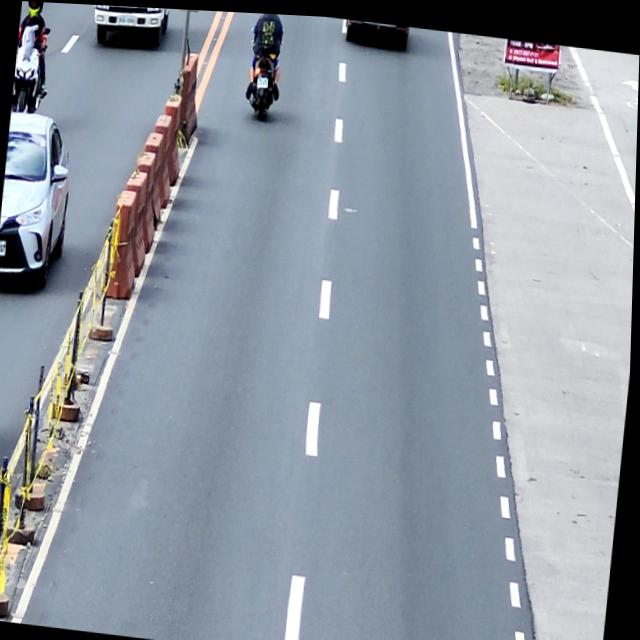Car: (0, 108, 77, 289)
License-Plate: (113, 8, 138, 29), (253, 71, 270, 88)
Motorcycle: (11, 21, 54, 115), (243, 26, 283, 120)
Truck: (88, 4, 171, 49)
